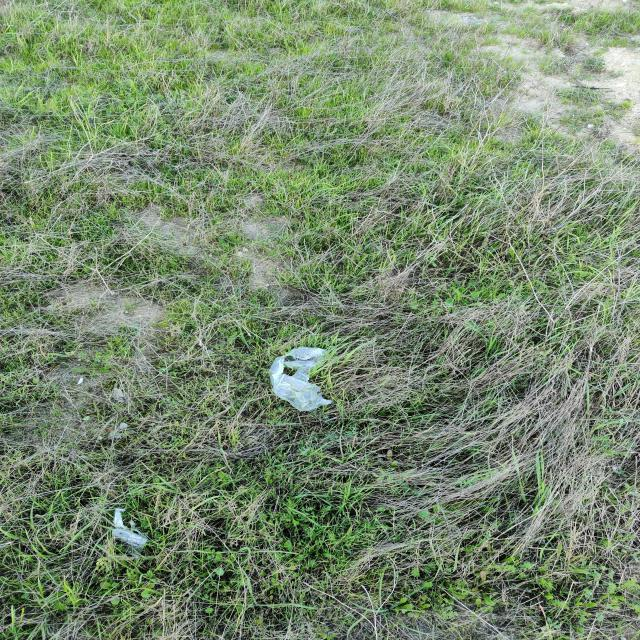litter: (264, 334, 340, 420), (108, 504, 159, 568)
